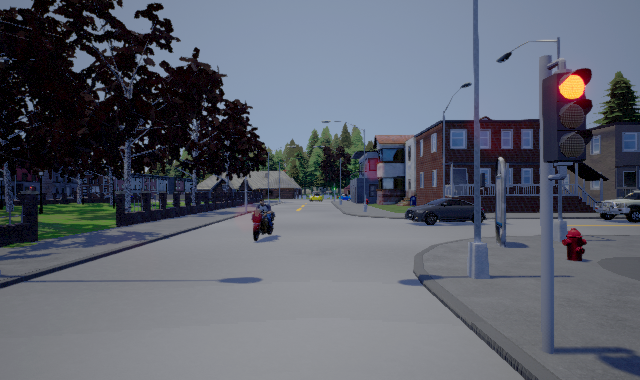motobike: (251, 199, 277, 244)
traffic_light: (542, 58, 593, 181)
vehicle: (405, 198, 486, 229), (595, 189, 640, 223), (308, 192, 322, 203)
